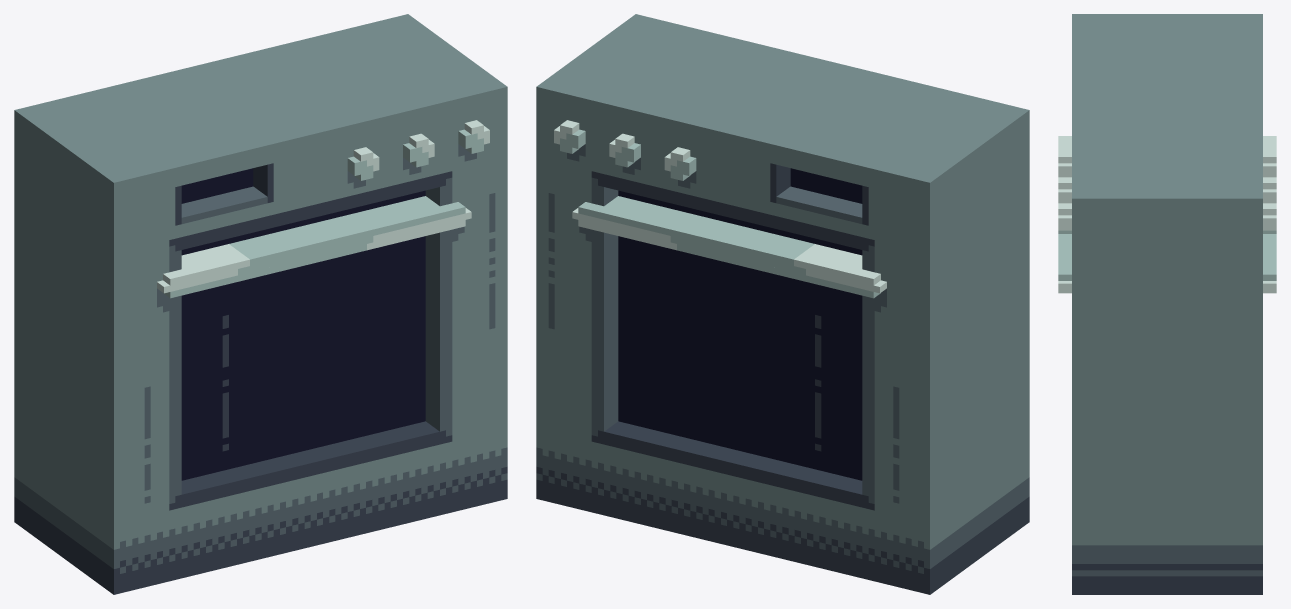
Rendered from firin.fbx.
3 views of the same model, side by side, from view 1: azimuth 30°, elevation 25°; view 2: azimuth 150°, elevation 25°; view 3: azimuth 270°, elevation 25° (orthographic). The views are drawn at different scales.
Visible parts, largest first — view 1: generated; view 2: generated; view 3: generated.
Part boxes in pixels (left/top/right/bottom): generated: left=14, top=14, right=507, bottom=594; generated: left=536, top=14, right=1029, bottom=594; generated: left=1058, top=14, right=1276, bottom=594.
Size of the model in its own units: 640 by 640 by 320.
